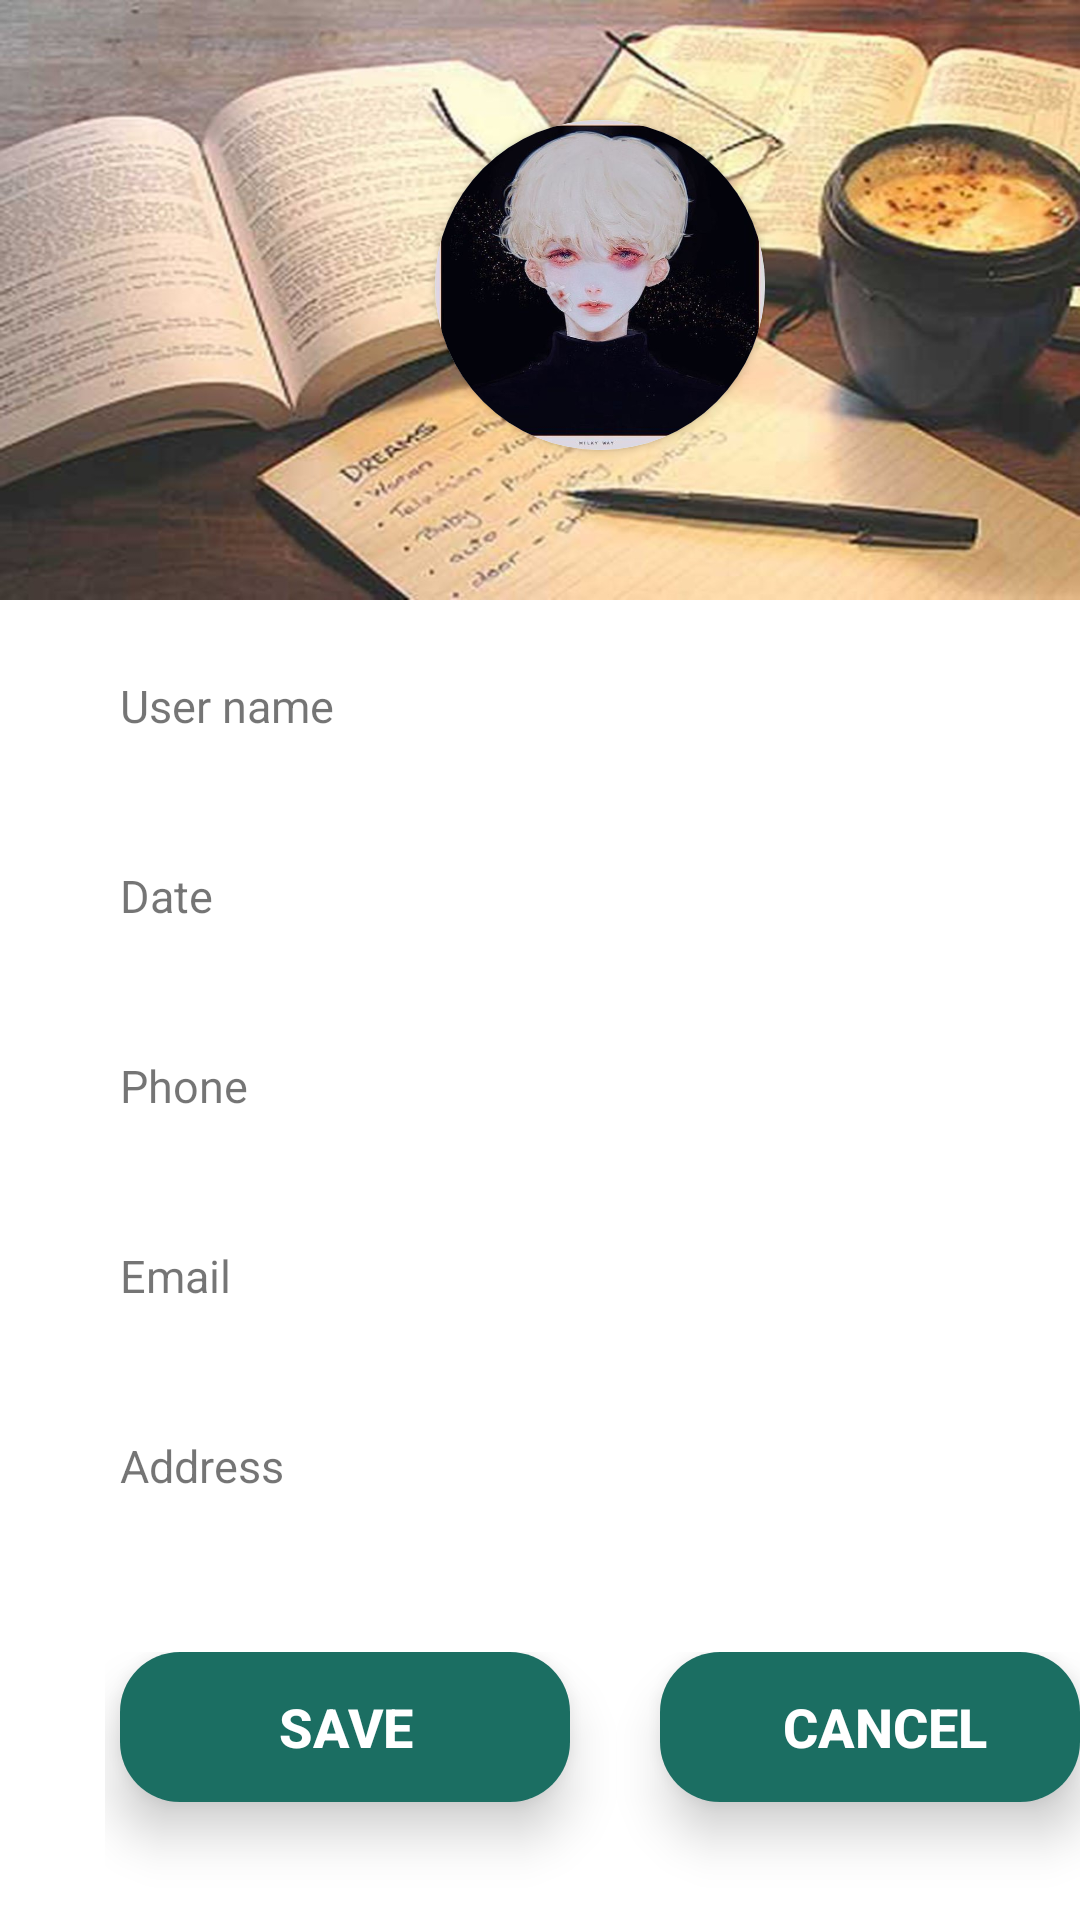

Named icons in this screenshot (1080px x 1920px) and their centers, (x,y):
avt: (600,285)
